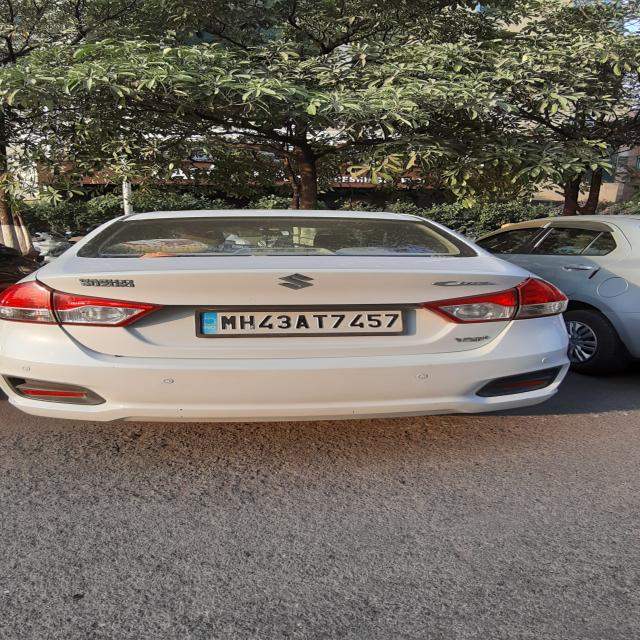Number-Plate: (198, 310, 403, 332)
